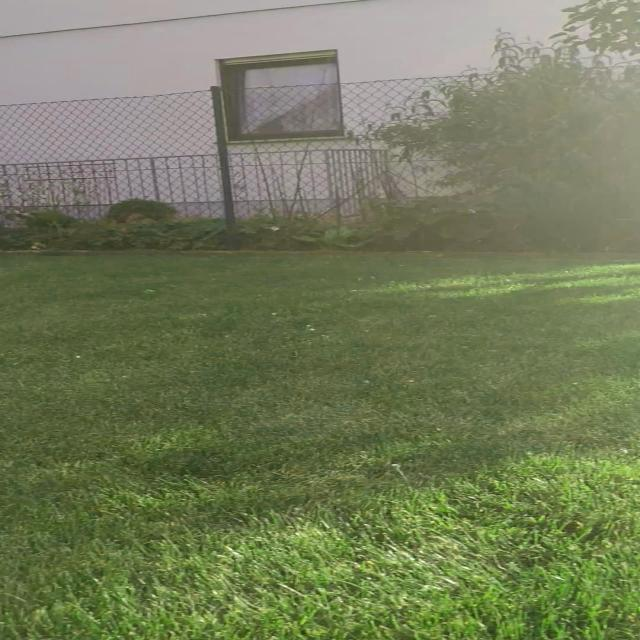lawn: (0, 252, 640, 640)
